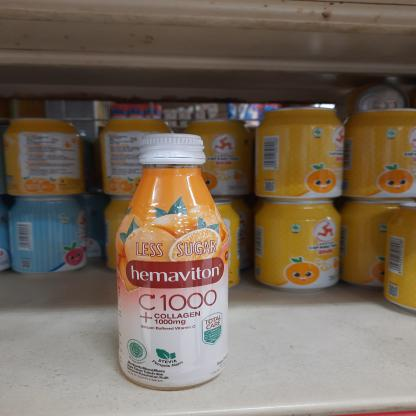can: (251, 102, 349, 203), (241, 195, 341, 291), (4, 114, 89, 198), (7, 192, 89, 278), (349, 102, 416, 199)
glass: (108, 128, 232, 393)
